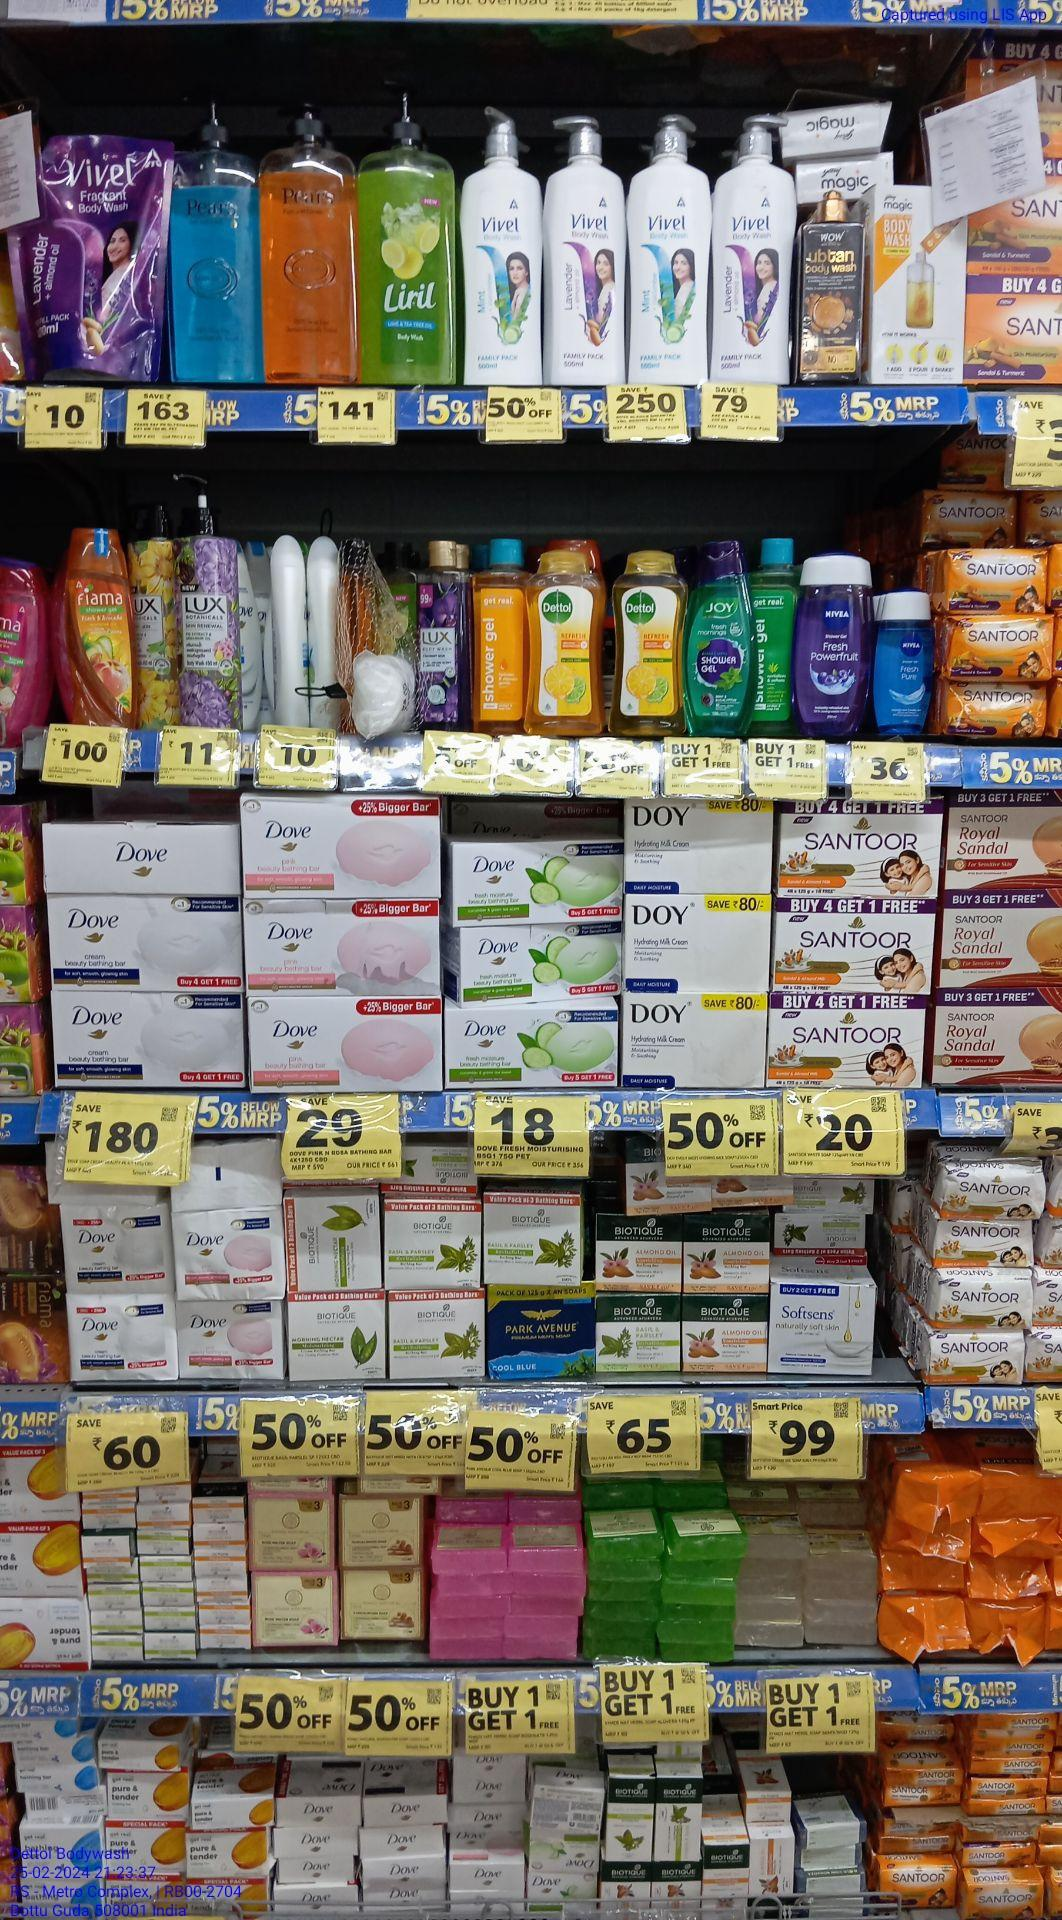Dettol_Bodywash_Refresh: (526, 551, 600, 734), (613, 551, 687, 735)
Fiama_Shower_Gel_Patchouli_and_Macadamia_250ML: (0, 535, 46, 747)
Fiama_Shower_Gel_Peach_and_Avocado_250ML: (60, 515, 137, 727)
Joy_Shower_Gel_Mint_and_Eucalyptus_250ML: (689, 541, 753, 735)
Lux_Black_Orchid_Scent_and_Juniper_Oil_Body_Wash_245ML: (415, 538, 464, 729)
